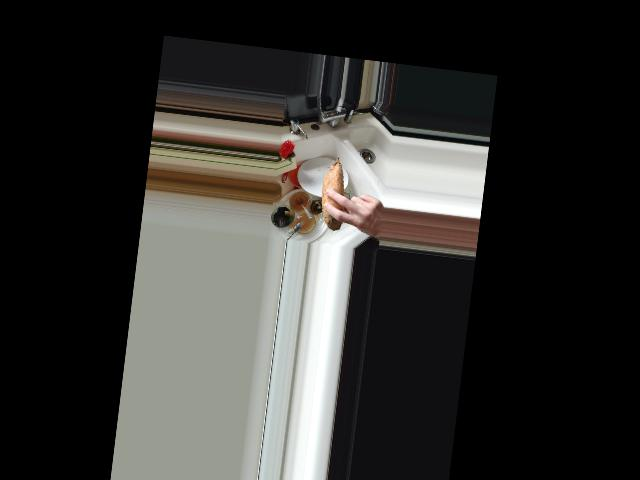sweet_potato: (318, 153, 354, 234)
